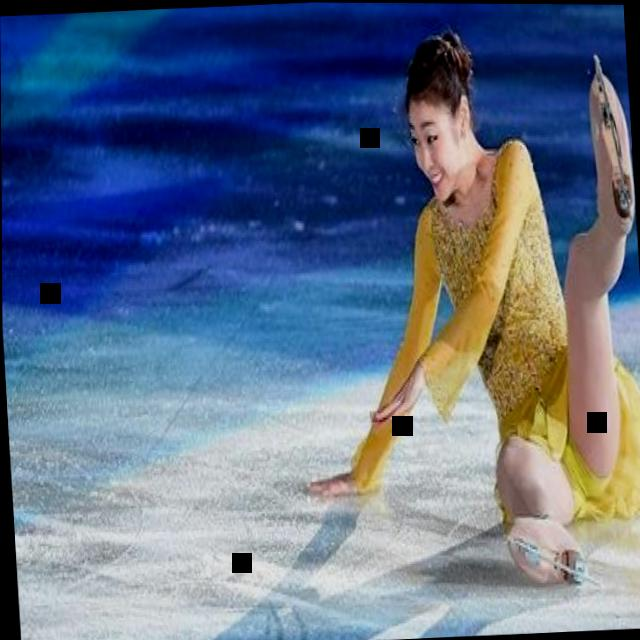Fall-Detected: (279, 20, 640, 584)
